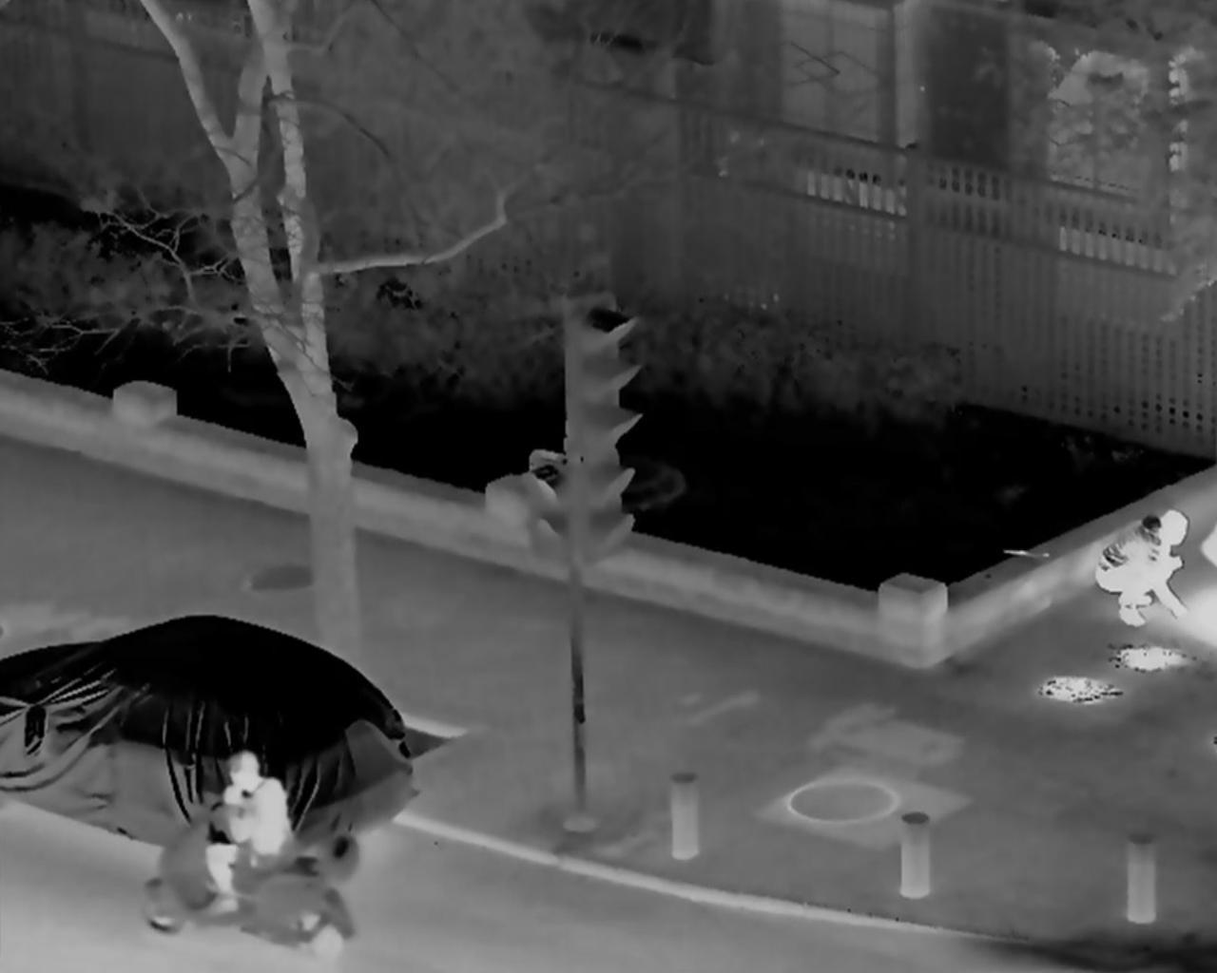person: (198, 749, 295, 921), (1090, 506, 1195, 626)
